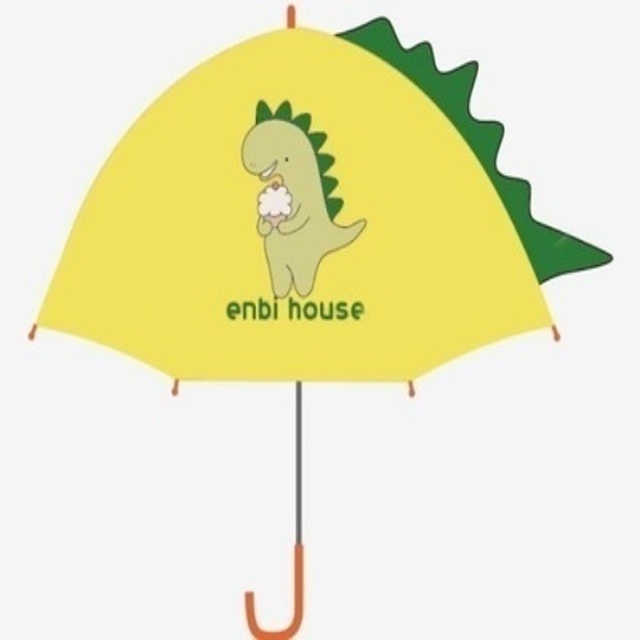umbrella: (17, 2, 619, 640)
